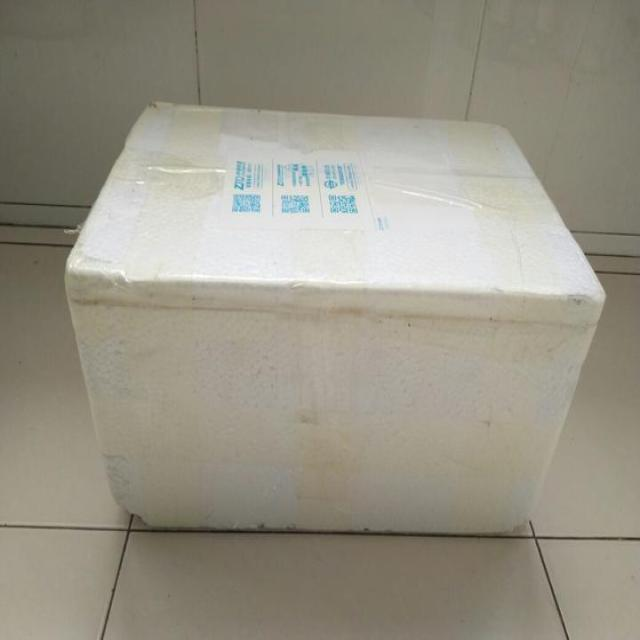styrofoam: (63, 97, 607, 538)
